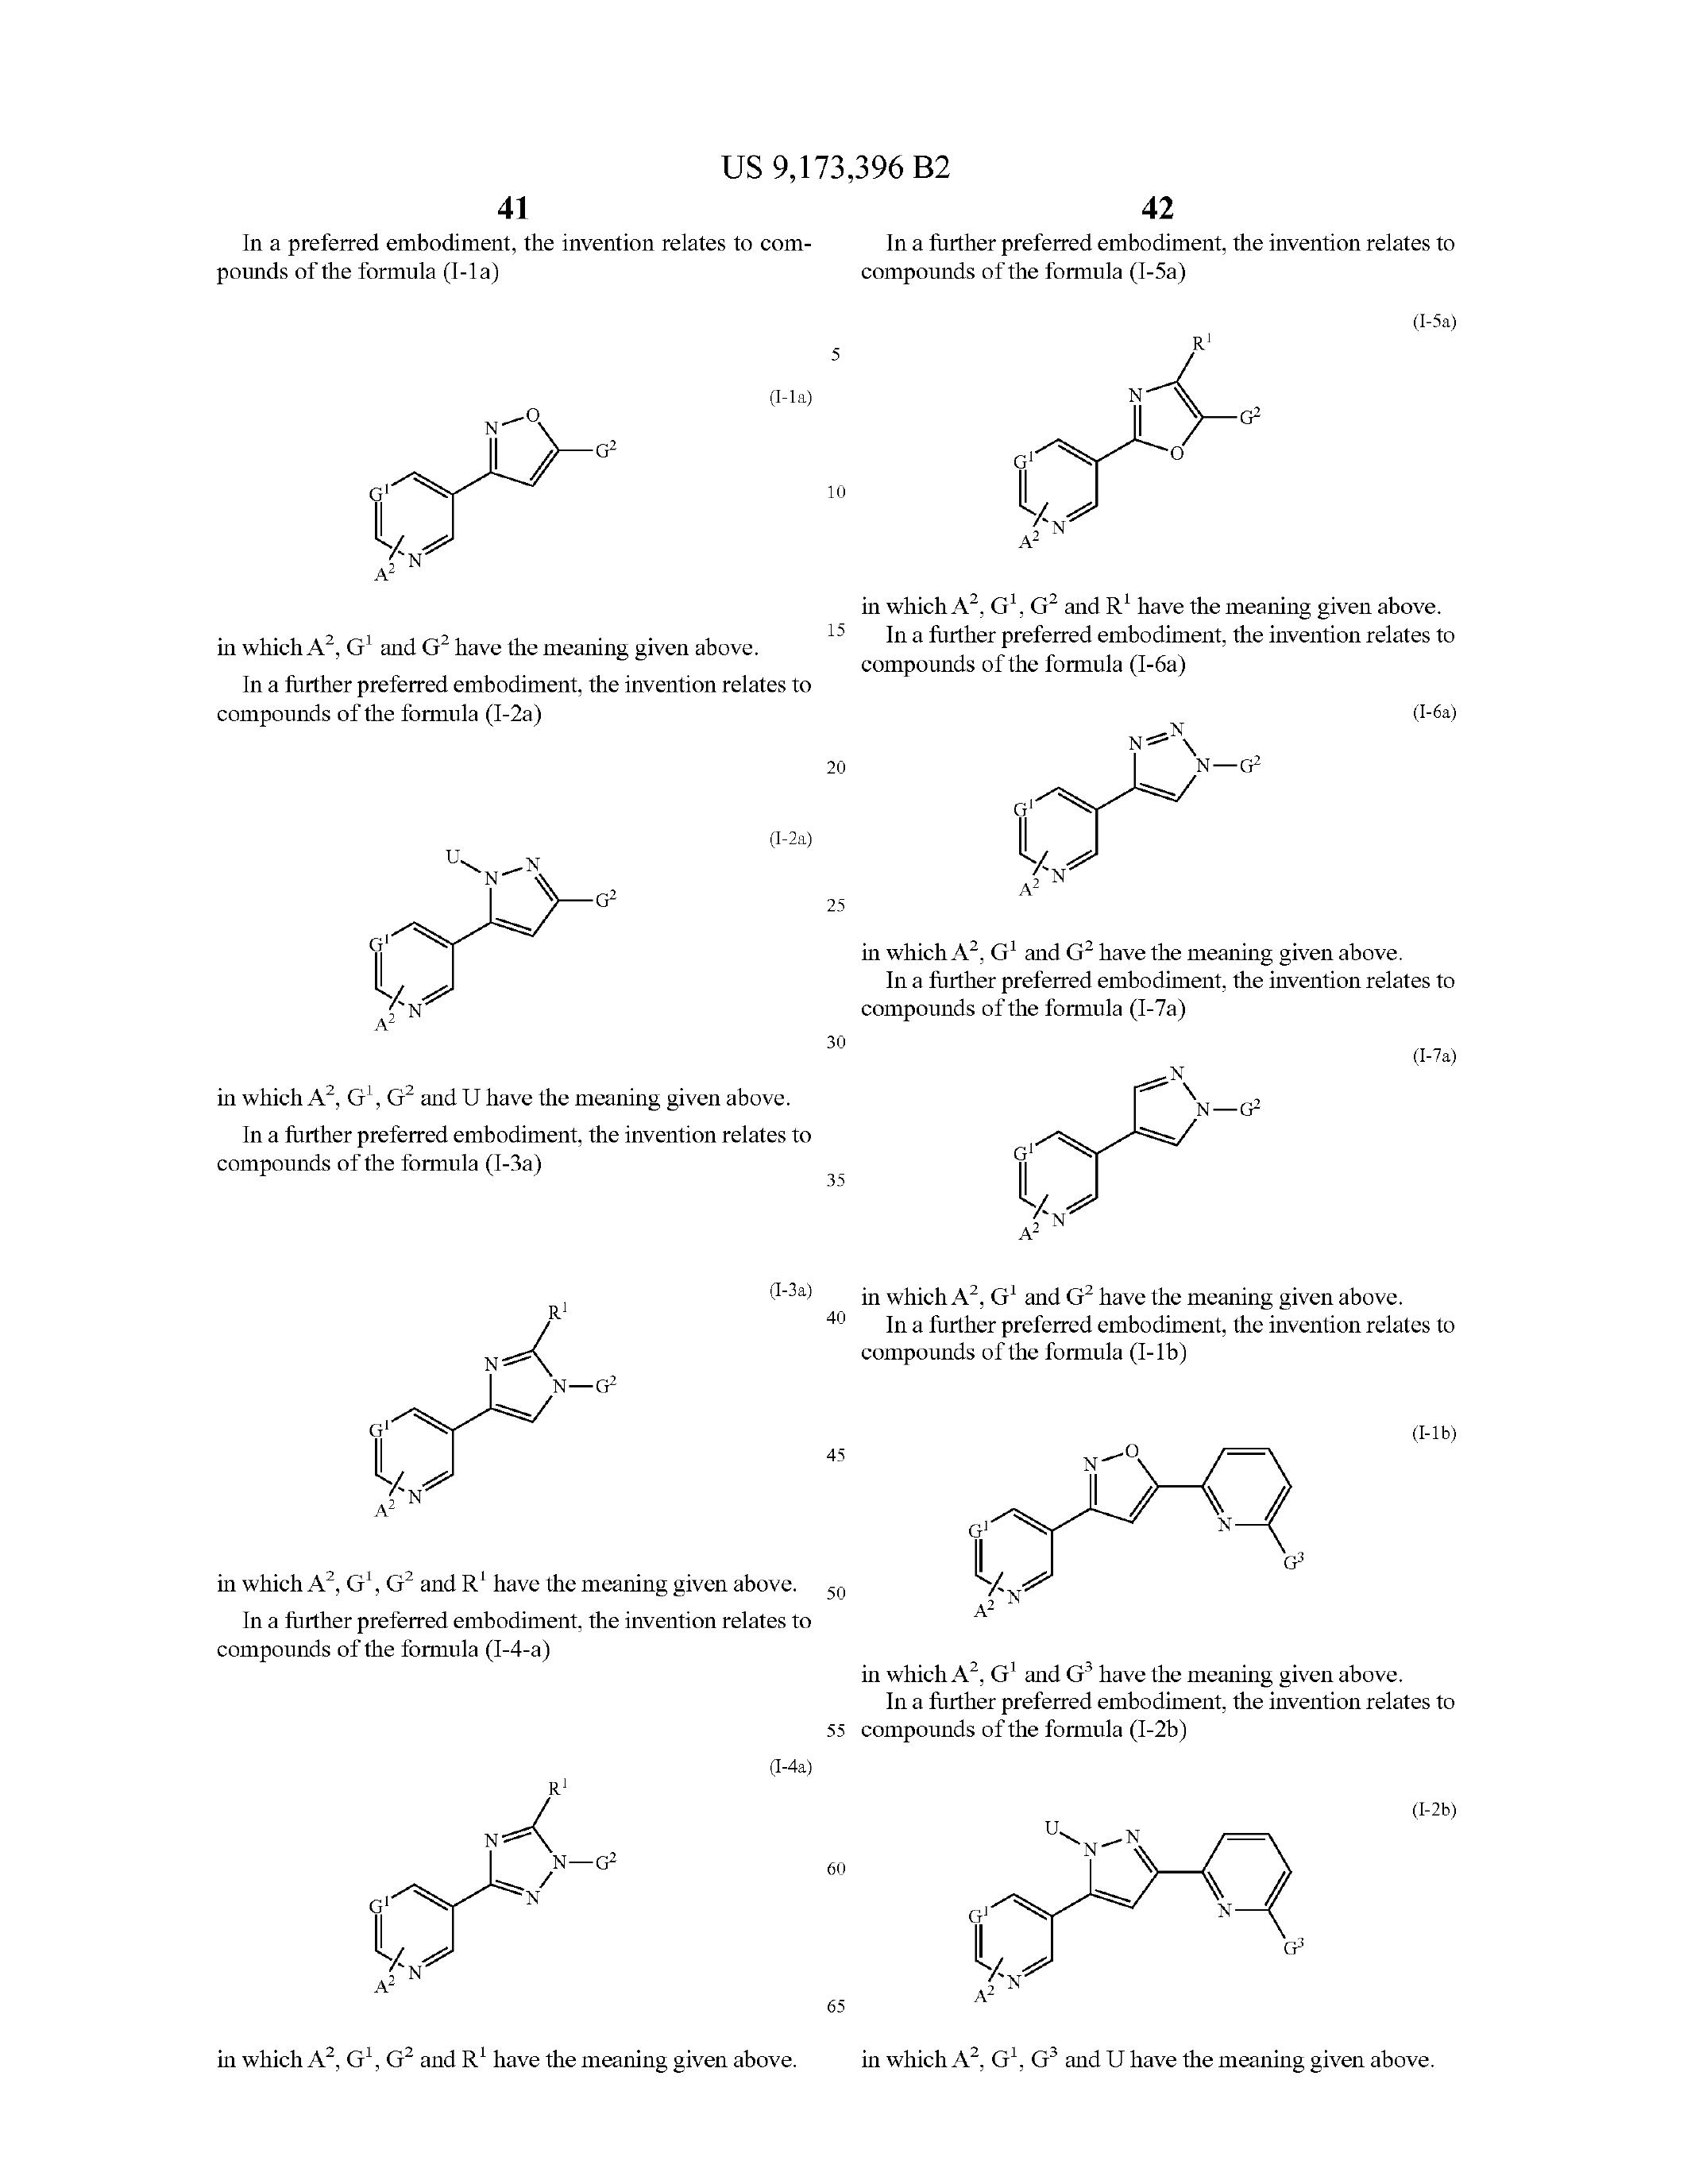substitutes: (915, 704, 1335, 911)
